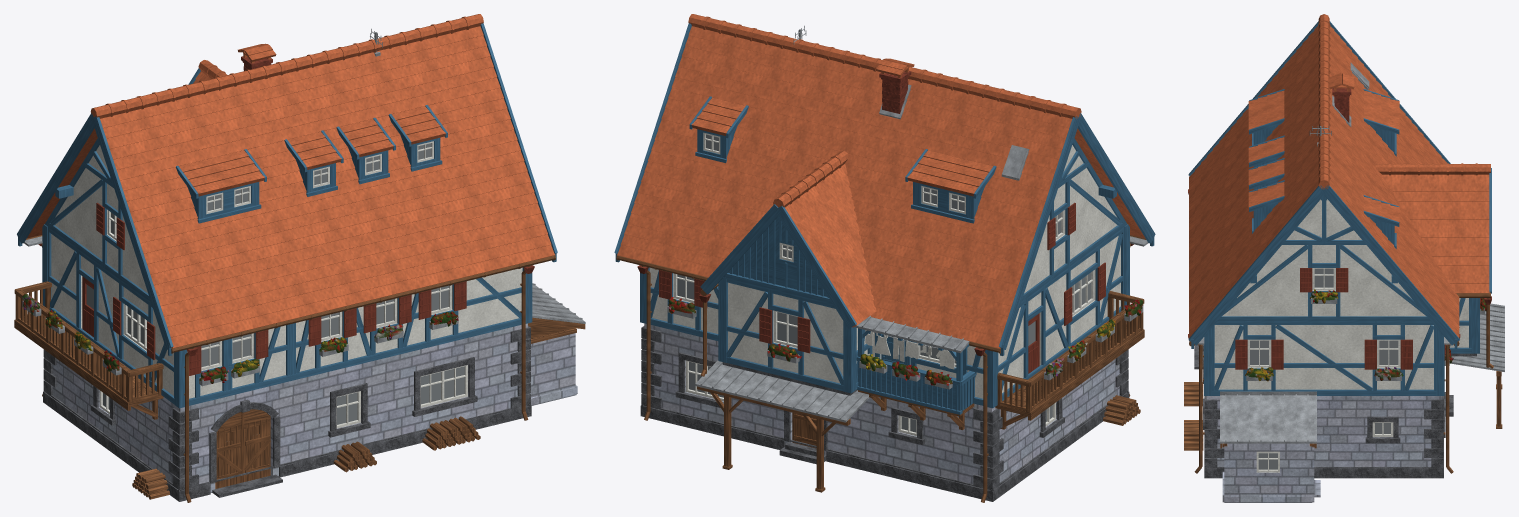
The picture shows the model from 3 angles, left to right: view 1: azimuth 30°, elevation 25°; view 2: azimuth 150°, elevation 25°; view 3: azimuth 270°, elevation 25°; orthographic projection. The views are drawn at different scales.
Parts seen in each view (by area): view 1: BL001_Eckstaender; view 2: BL001_Eckstaender; view 3: BL001_Eckstaender.
Boxes of the visible parts, x1=… form: BL001_Eckstaender: x1=14, y1=14, x2=585, y2=502; BL001_Eckstaender: x1=614, y1=14, x2=1155, y2=502; BL001_Eckstaender: x1=1184, y1=14, x2=1504, y2=502.
Size of the model in its own units: 158 by 119 by 109.
Materials: 13 (11 with a texture image).
